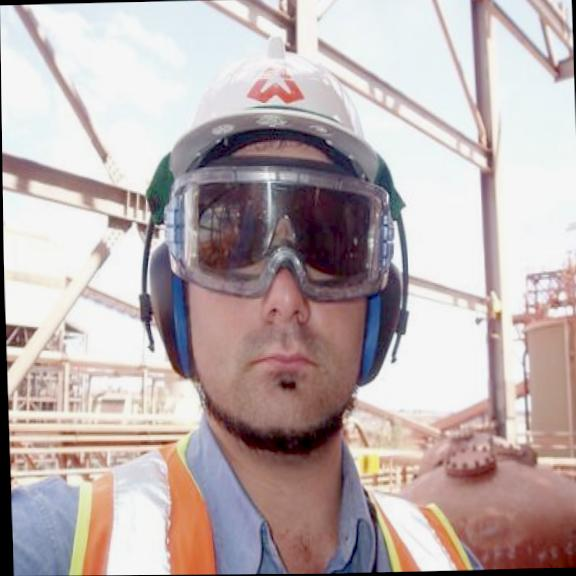safety_vest: (60, 410, 482, 576)
